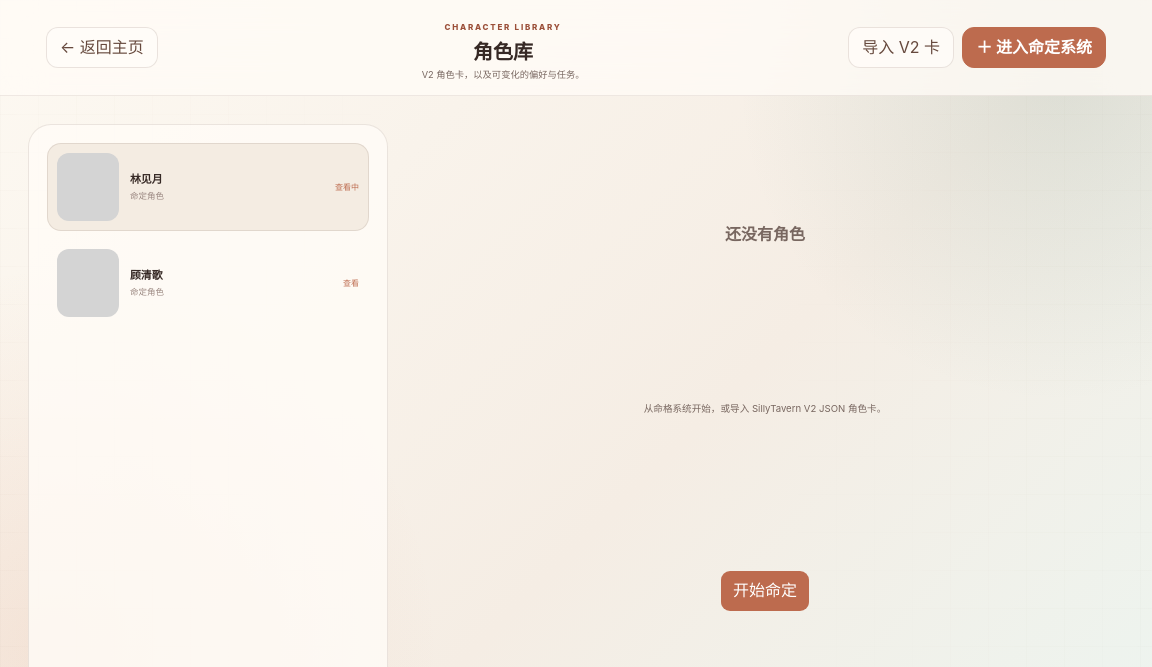
does not render a stale character detail after the selection changes
Step 1. Click the button "顾清歌 命定角色 查看" → (88, 283), box [47,239,369,327]
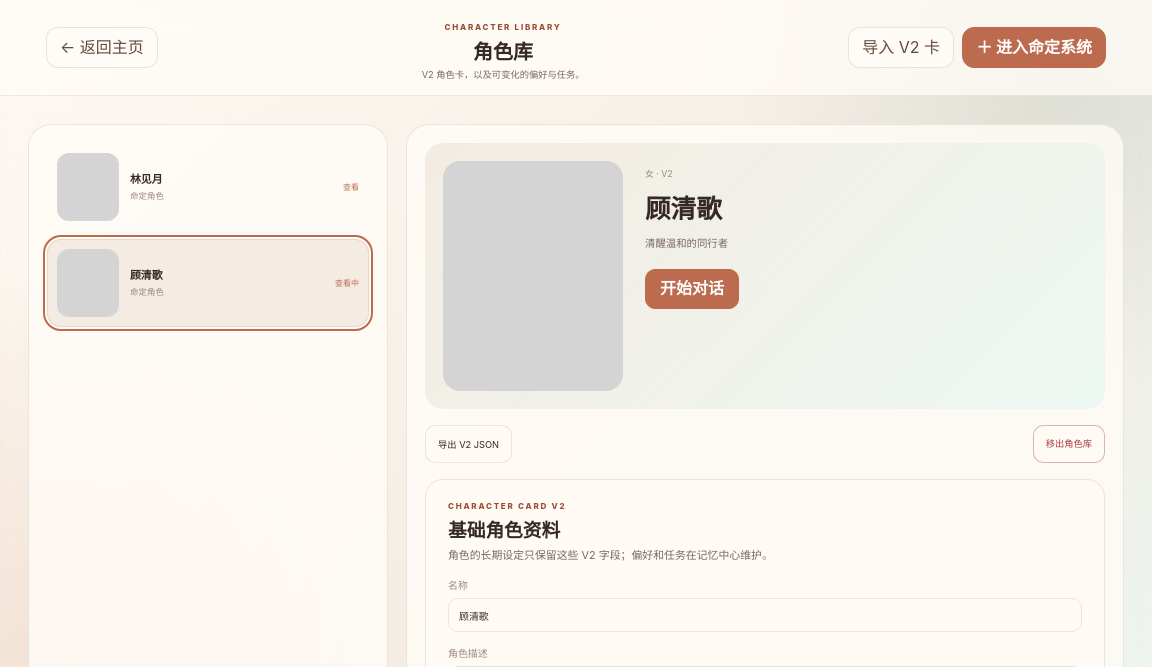
Now the heading "顾清歌" is shown, box [645,193,722,224]
